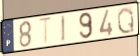4: (98, 7, 115, 38)
8: (18, 20, 33, 49)
9: (78, 10, 94, 41)
I: (59, 14, 66, 44)
Q: (116, 6, 136, 35)
T: (37, 16, 54, 47)
